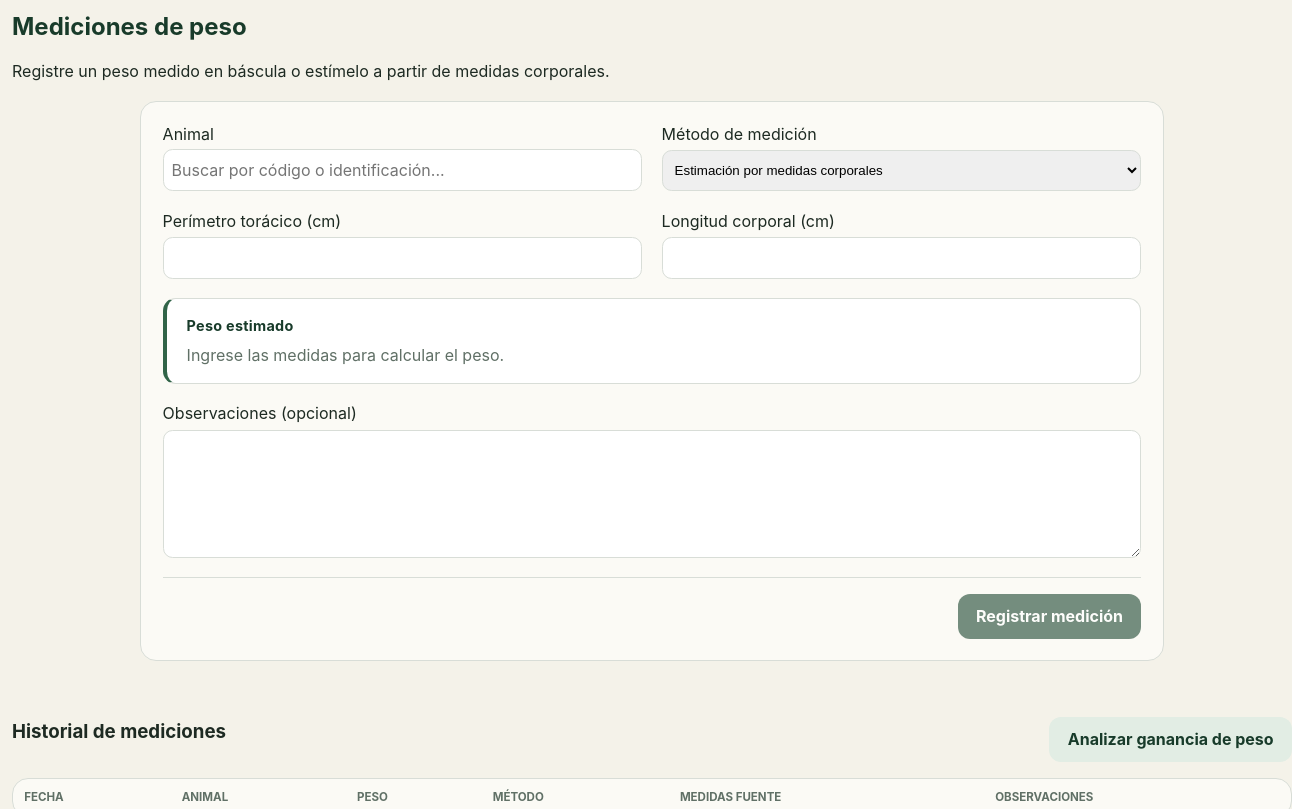
mediciones de peso › conserva captura por báscula y muestra su conversión
Select "Báscula" in the dropdown labelled "Método de medición". click: (902, 171)
box: [662, 150, 1141, 192]
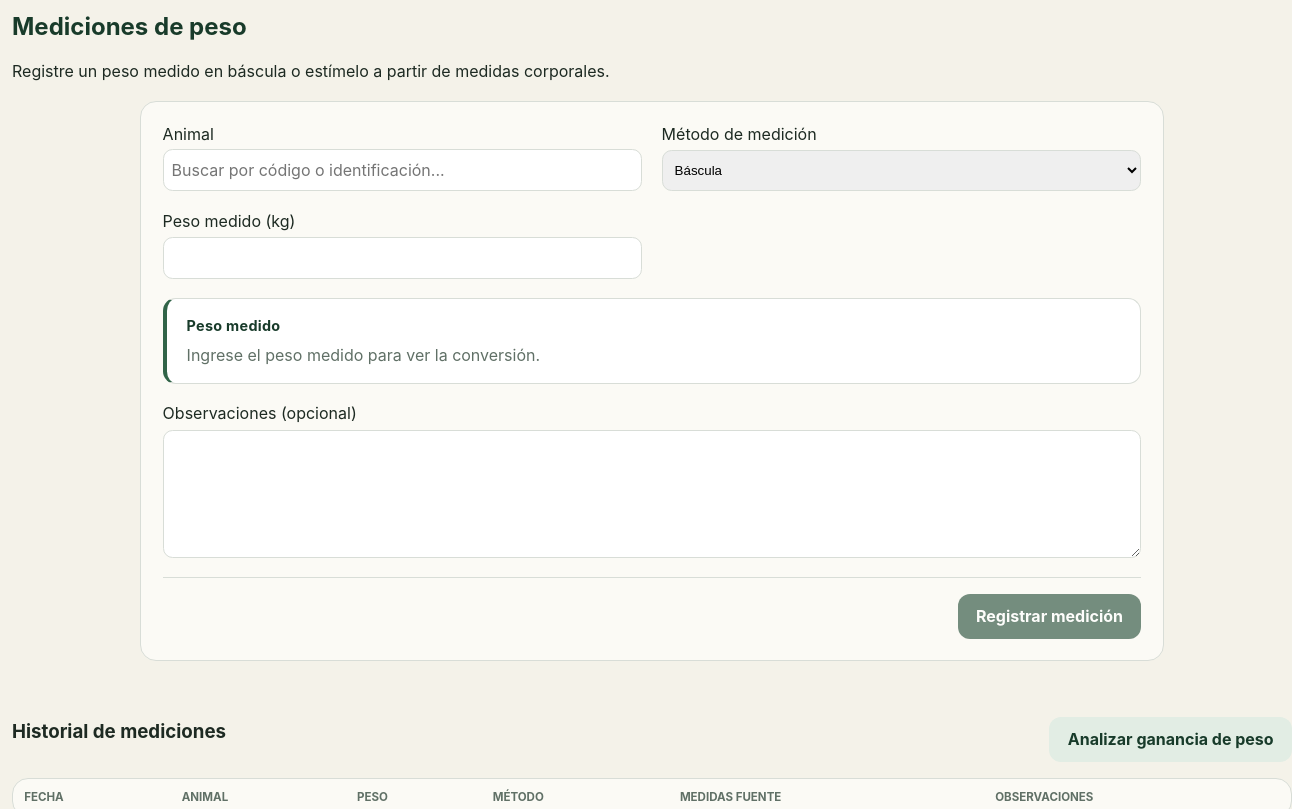
Type "100" into the field labelled "Peso medido (kg)". click: (402, 258)
box: [163, 237, 642, 279]
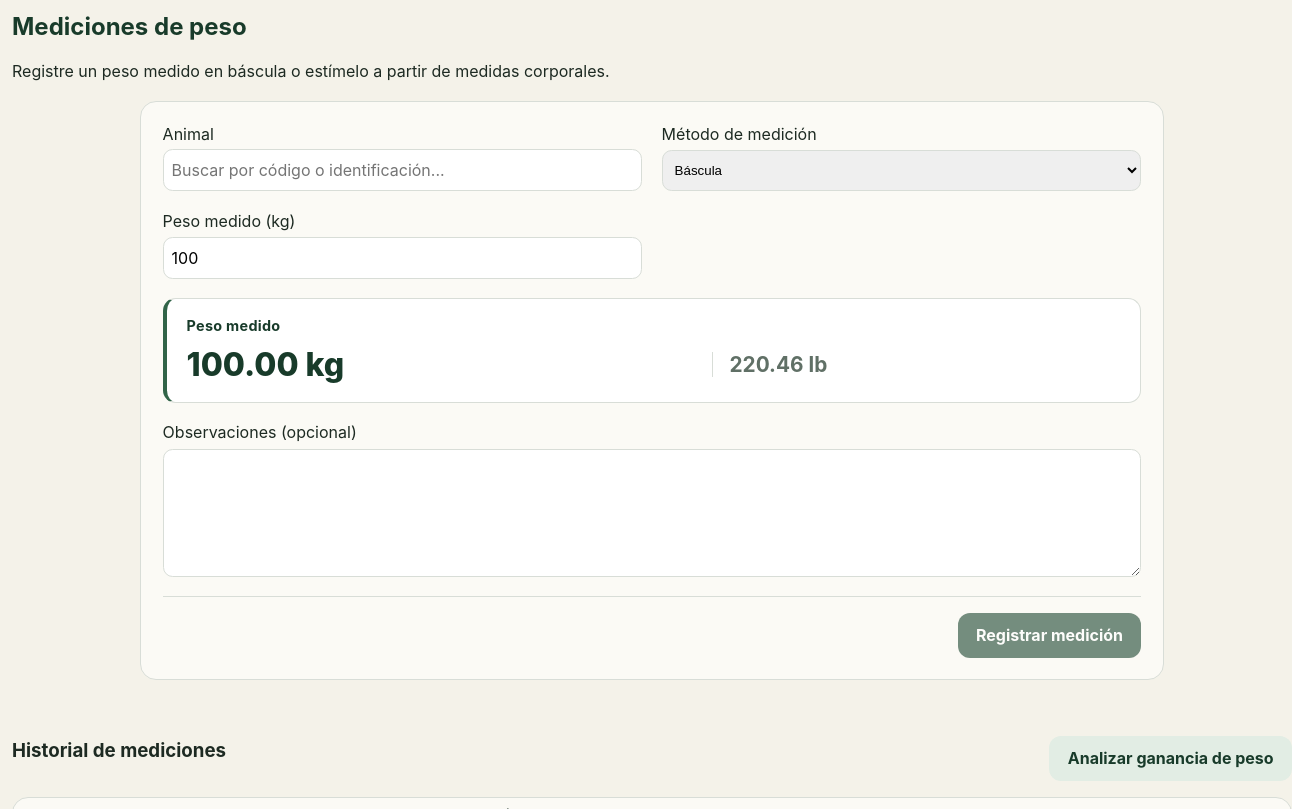
Expected: the label labelled "Perímetro torácico (cm)" is not shown
Now the text "100.00 kg" is shown, box [187, 345, 344, 384]
Now the text "220.46 lb" is shown, box [712, 352, 1120, 377]
